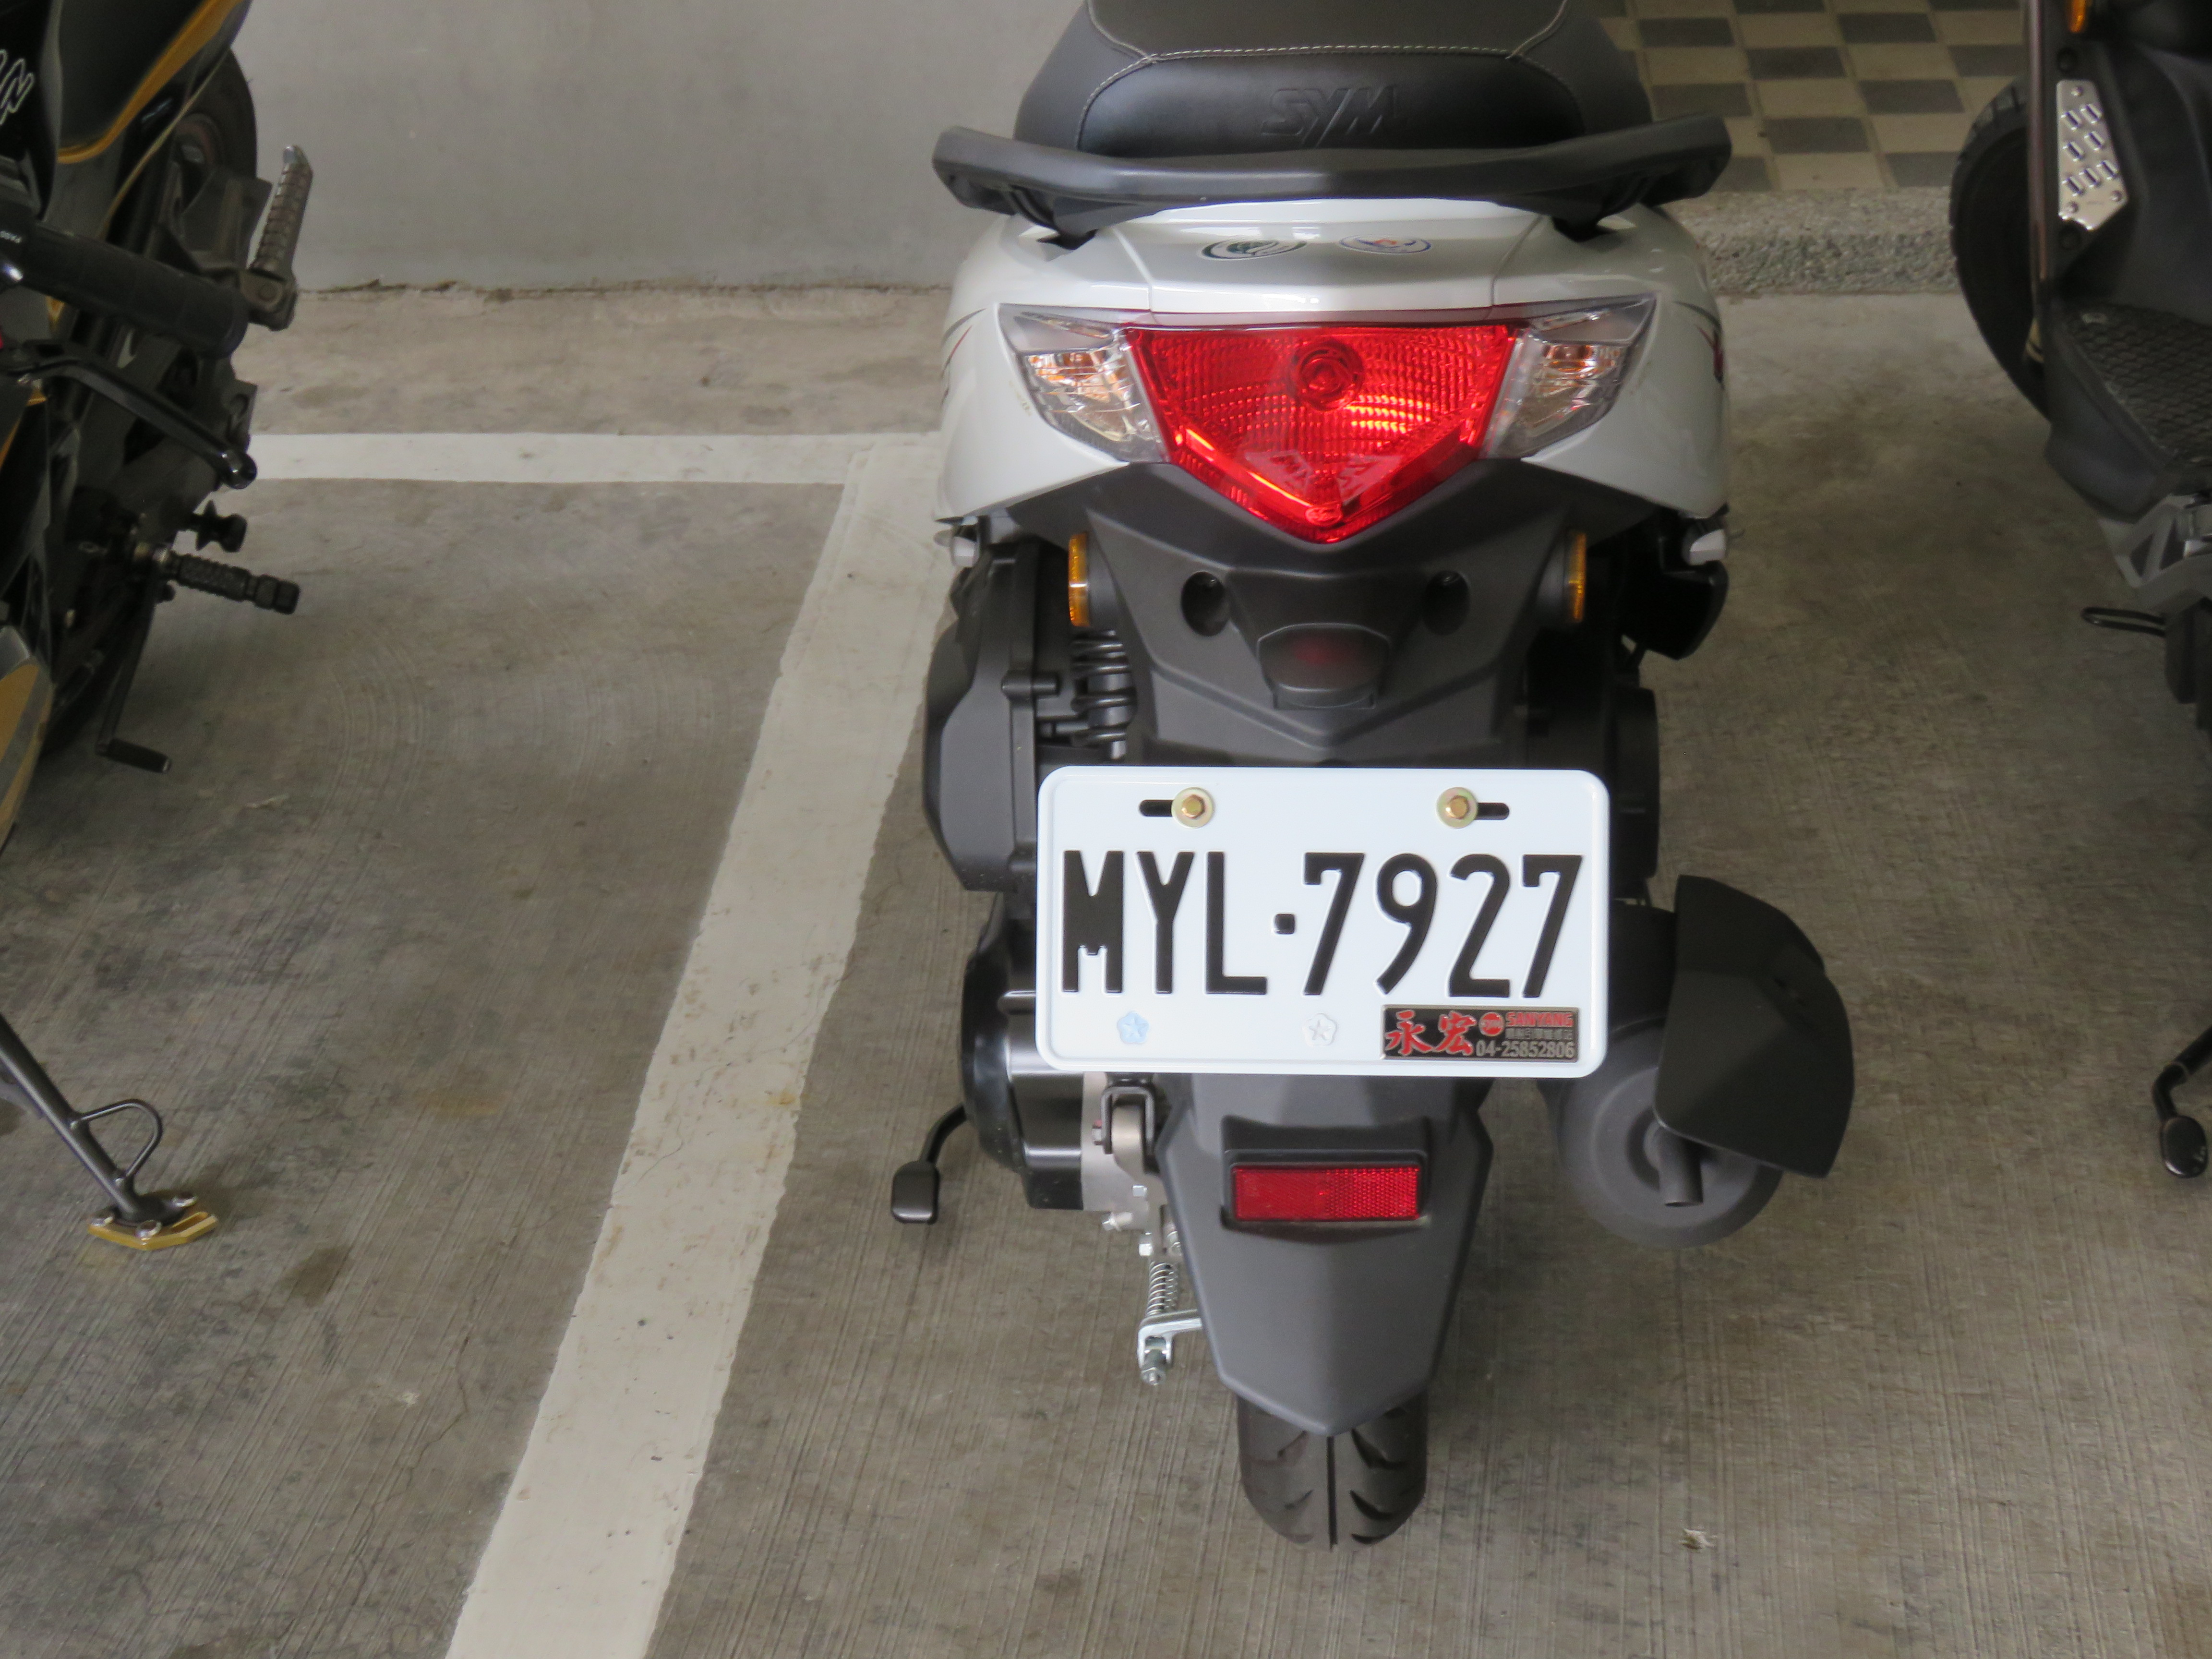car_card: (812, 809, 1409, 1107)
moto: (667, 0, 1576, 1596)
